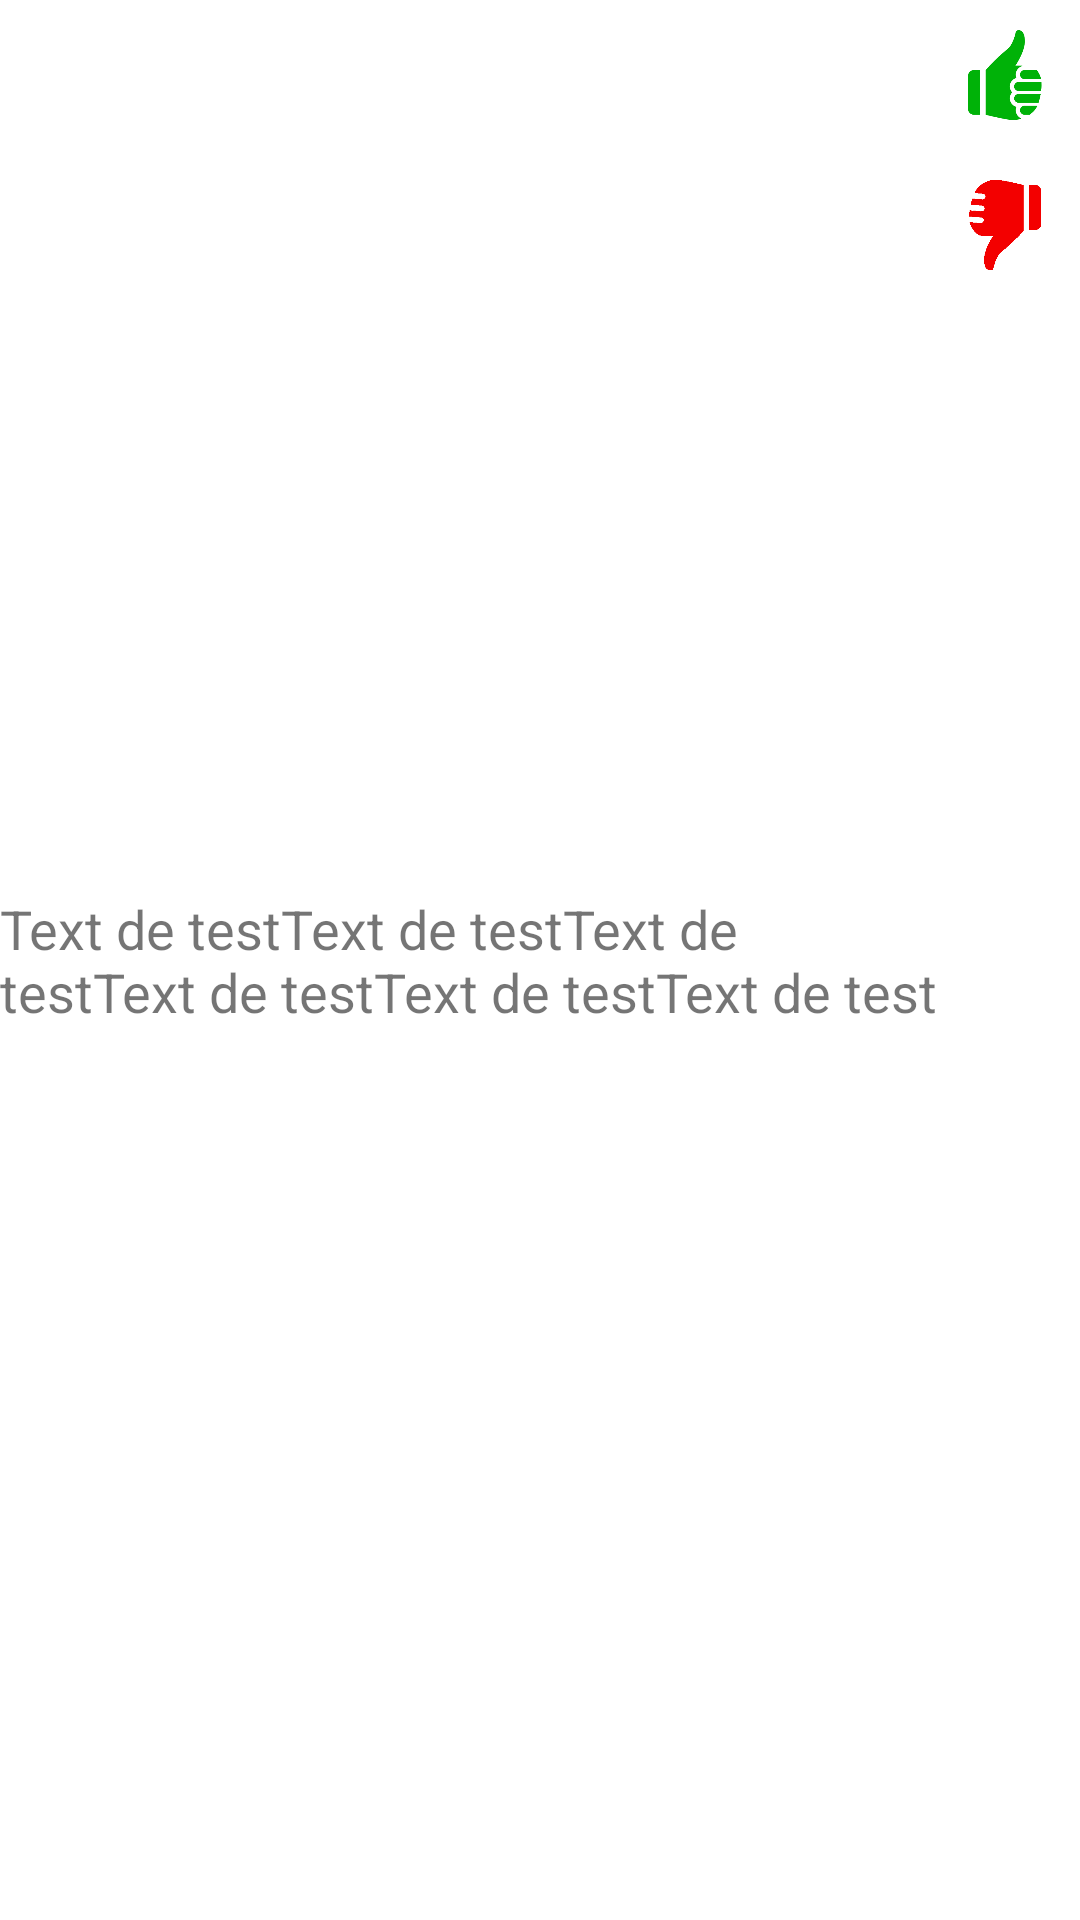

Icon click points for this 1080x1920 phone screenshot, format point (x, y):
pouce rouge: point (1005, 225)
pouce vert: point (1005, 75)
